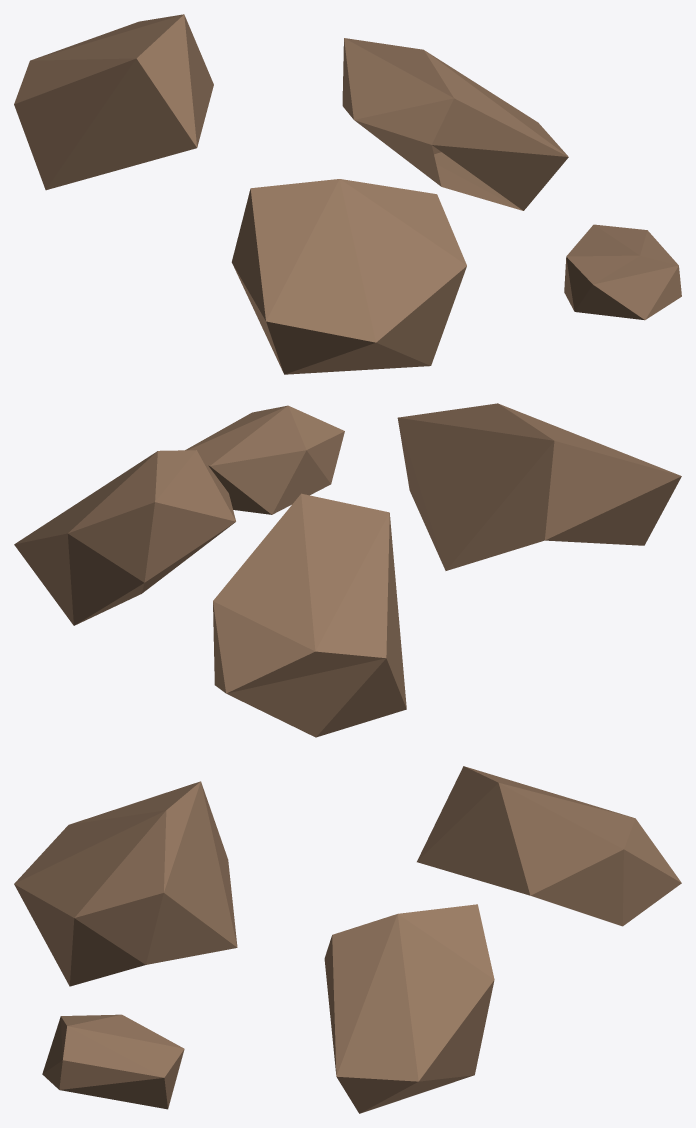
Rendered from Rune_01_rock.FBX.
3 renders of one model, top to bottom at view 1: azimuth 30°, elevation 25°; view 2: azimuth 150°, elevation 25°; view 3: azimuth 270°, elevation 25°, orthographic. The views are drawn at different scales.
Visible parts, largest first — view 1: Rune_01_rock; view 2: Rune_01_rock; view 3: Rune_01_rock.
Boxes of the visible parts, x1=… form: Rune_01_rock: x1=14, y1=14, x2=681, y2=374; Rune_01_rock: x1=14, y1=403, x2=681, y2=737; Rune_01_rock: x1=14, y1=766, x2=681, y2=1113.
Size of the model in its own units: 33.7 by 14.94 by 44.31.
